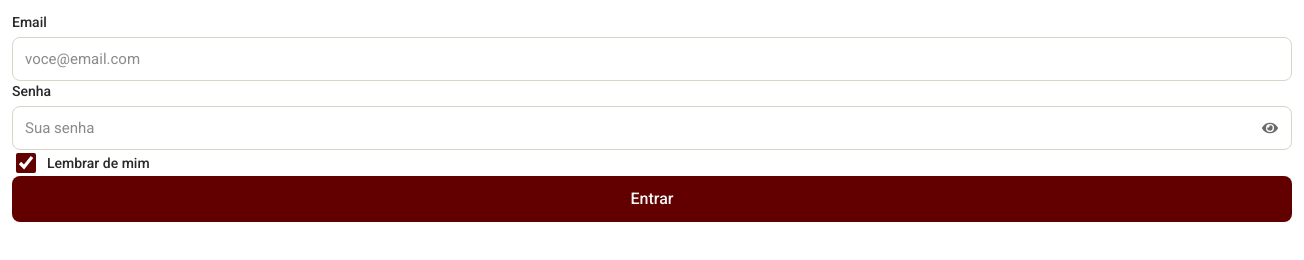
Login › mostra erro com credenciais incorretas
Type "nao@existe.com" into the field labelled "Email" at (652, 59), box [12,37,1292,81]
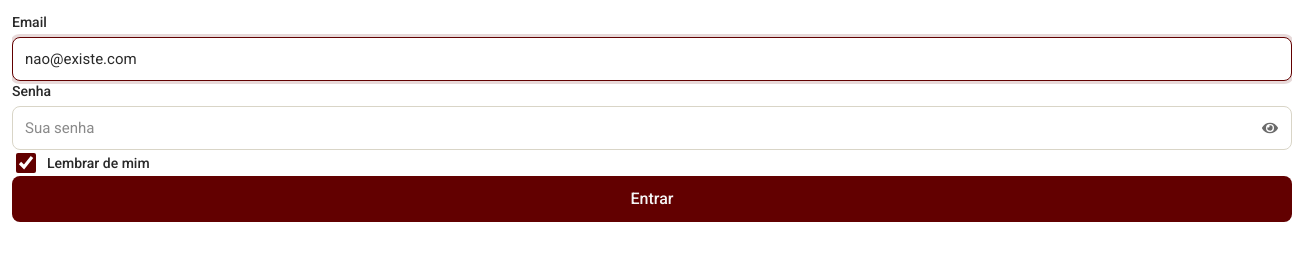
Type "qualquer-senha" into the password field labelled "Senha" at (652, 128), box [12,106,1292,150]
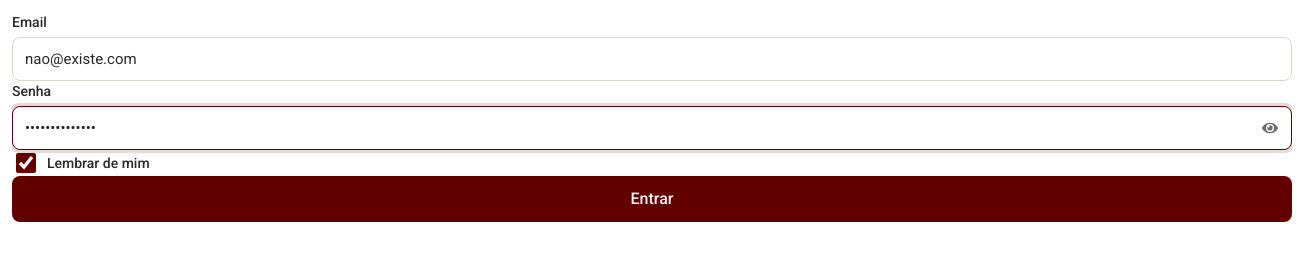
Click the button "Entrar" at (652, 199), box [12,176,1292,222]
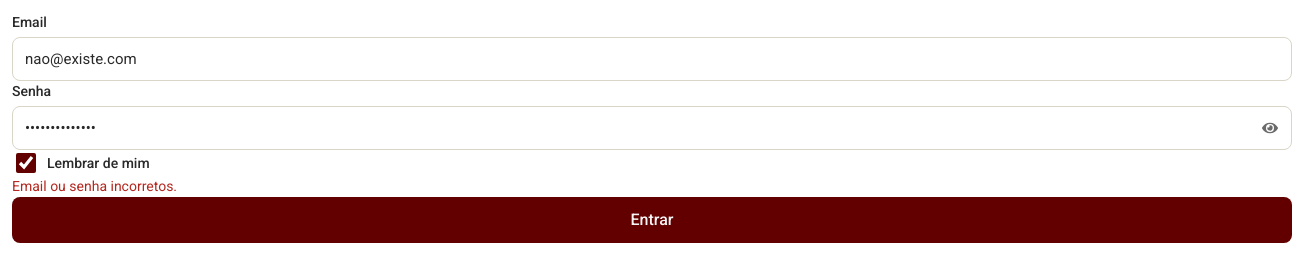
Expected: the text "Email ou senha incorretos." is shown, [12,178,177,194]
